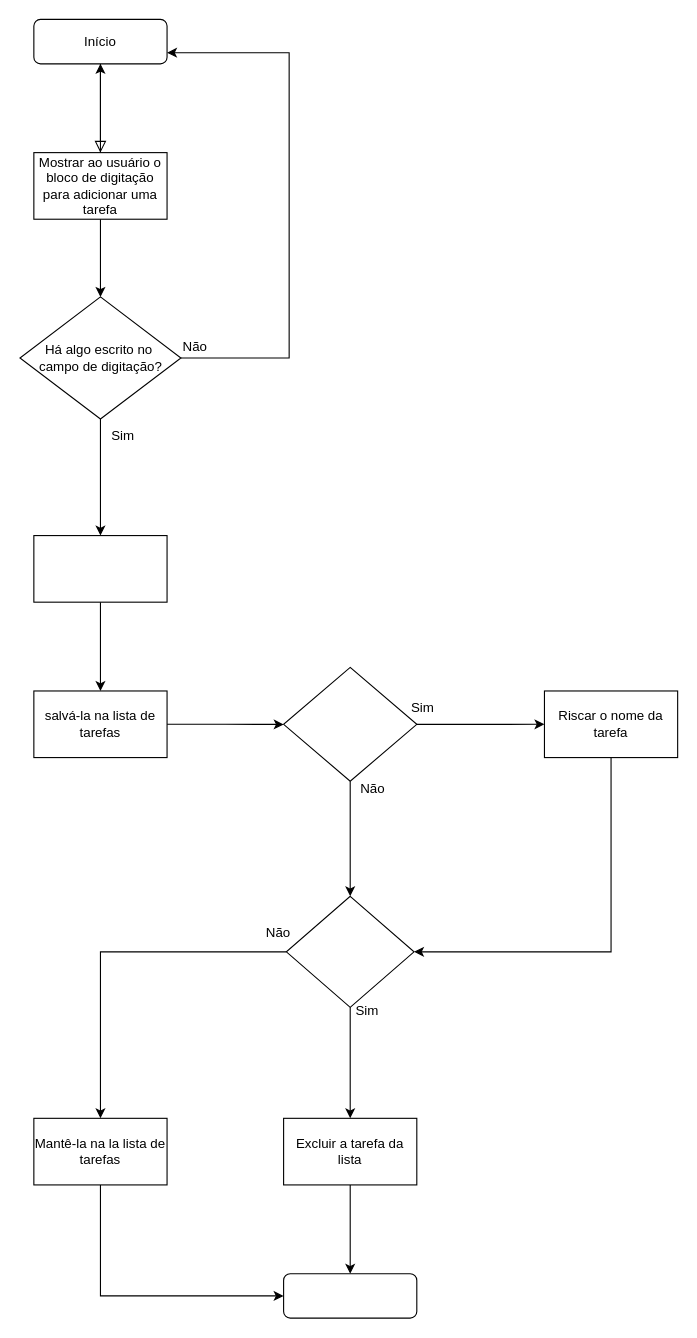
This 697x1338 diagram has some shape labels left out. The centre of each missing label's shape, as x and y in pixels:
"Fim" belongs at pixel 349 1295.
"O usuário clicou para excluir a tarefa?" belongs at pixel 349 951.
"O usuário verificou a tarefa como completa?" belongs at pixel 349 723.
"Validar a tarefa digitada" belongs at pixel 100 568.
